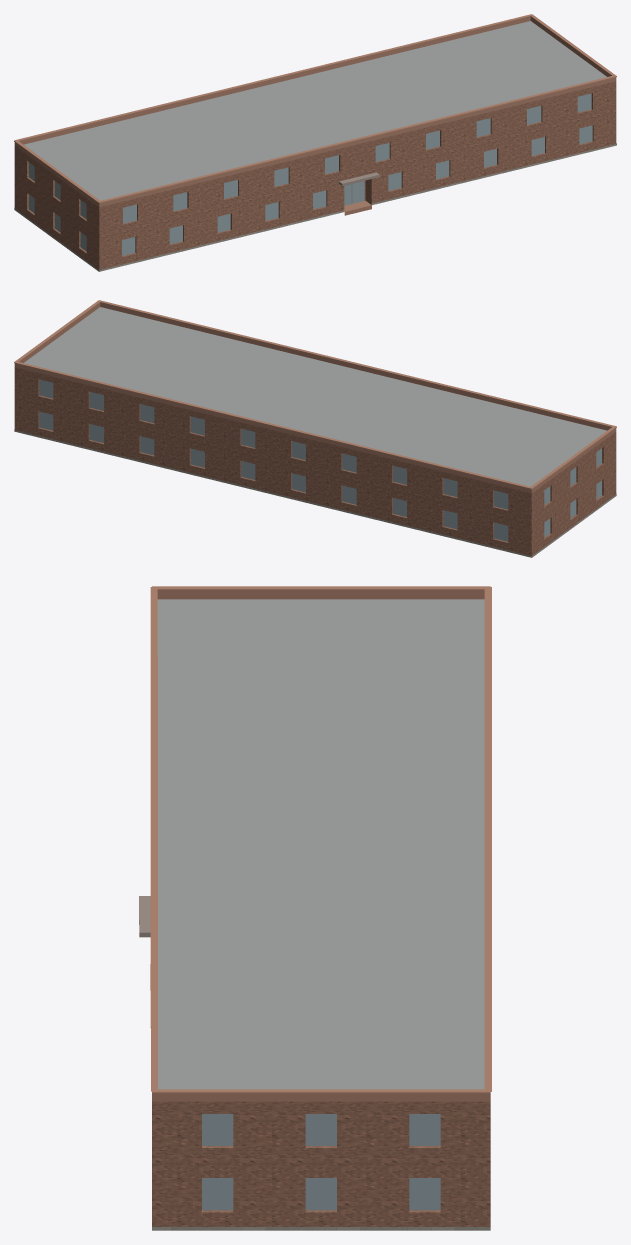
3 views of the same model, one above another, from view 1: azimuth 30°, elevation 25°; view 2: azimuth 150°, elevation 25°; view 3: azimuth 270°, elevation 25° (orthographic). The views are drawn at different scales.
Parts seen in each view (by area): view 1: osm639992764__roof, osm639992764__wall, osm639992764__parapet, osm639992764__glass, osm639992764__trim, osm639992764__base; view 2: osm639992764__roof, osm639992764__wall, osm639992764__parapet, osm639992764__glass, osm639992764__trim, osm639992764__base; view 3: osm639992764__roof, osm639992764__wall, osm639992764__trim, osm639992764__parapet, osm639992764__glass, osm639992764__base.
Boxes of the visible parts, left/top/right/bottom form: osm639992764__roof: left=24, top=21, right=606, bottom=200; osm639992764__wall: left=14, top=81, right=616, bottom=271; osm639992764__parapet: left=14, top=16, right=616, bottom=207; osm639992764__glass: left=29, top=93, right=592, bottom=255; osm639992764__trim: left=14, top=14, right=616, bottom=203; osm639992764__base: left=14, top=143, right=616, bottom=271; osm639992764__roof: left=24, top=307, right=606, bottom=486; osm639992764__wall: left=14, top=367, right=616, bottom=557; osm639992764__parapet: left=14, top=302, right=616, bottom=493; osm639992764__glass: left=39, top=379, right=601, bottom=541; osm639992764__trim: left=14, top=300, right=616, bottom=489; osm639992764__base: left=14, top=429, right=616, bottom=557; osm639992764__roof: left=157, top=599, right=484, bottom=1089; osm639992764__wall: left=152, top=1101, right=490, bottom=1226; osm639992764__trim: left=150, top=586, right=491, bottom=1093; osm639992764__parapet: left=152, top=589, right=490, bottom=1101; osm639992764__glass: left=202, top=1114, right=440, bottom=1210; osm639992764__base: left=152, top=1227, right=490, bottom=1230.
Size of the model in its own units: 60.77 by 8.15 by 17.9.
10 materials, 2 textured.
